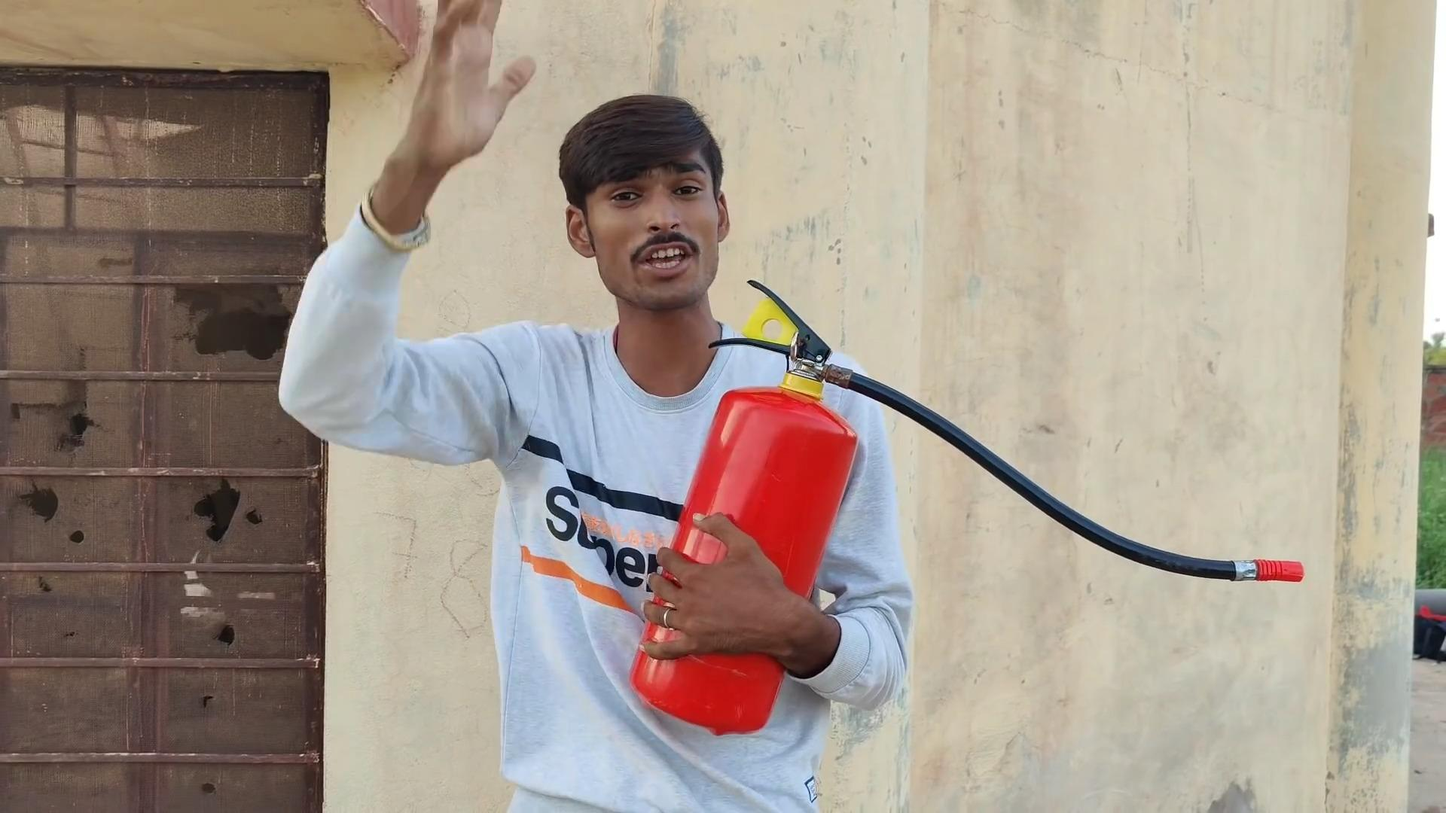FireExtinguisher: (603, 322, 897, 757)
